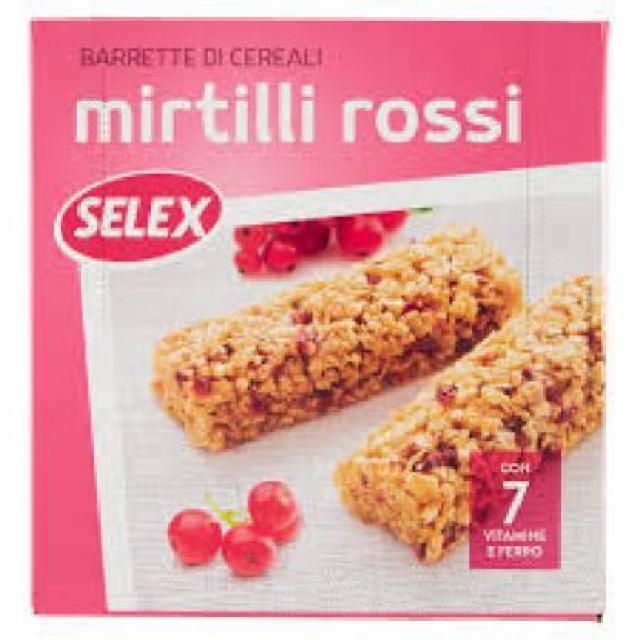Cereal bar: (16, 11, 612, 628)
